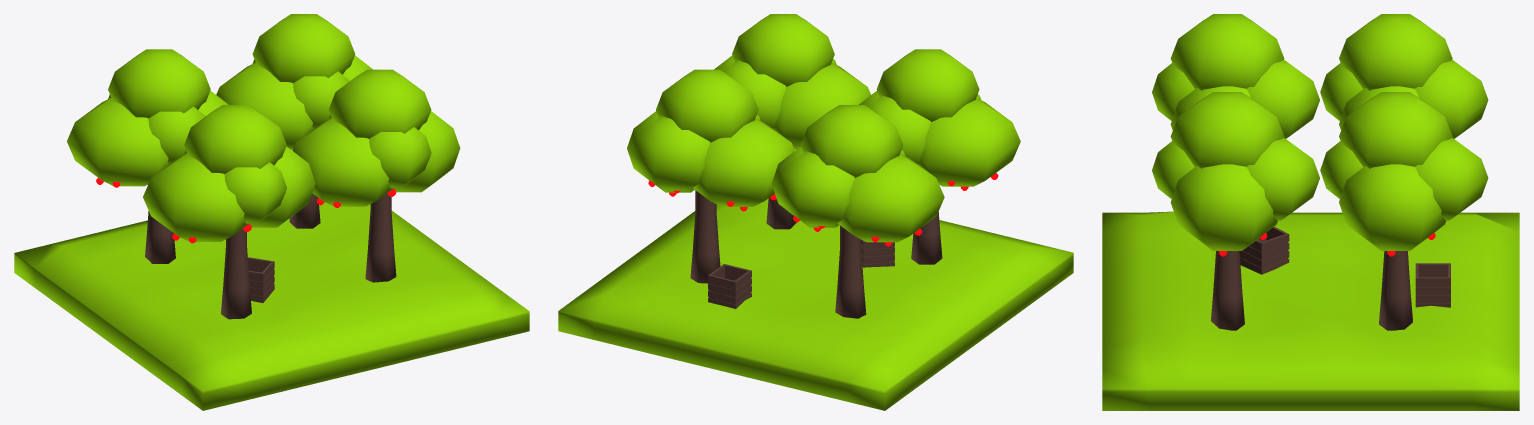
The model's file is TheAppleFarm.fbx.
3 views of the same model, side by side, from view 1: azimuth 30°, elevation 25°; view 2: azimuth 150°, elevation 25°; view 3: azimuth 270°, elevation 25° (orthographic). The views are drawn at different scales.
Visible parts, largest first — view 1: Plane.008, Plane.019, Plane.023; view 2: Plane.008, Plane.019, Plane.022, Plane.023; view 3: Plane.019, Plane.008, Plane.023, Plane.022.
Part boxes in pixels (x1,y1,x2,y2): Plane.008: (67, 14, 460, 319); Plane.019: (14, 202, 529, 410); Plane.023: (247, 257, 274, 302); Plane.008: (627, 14, 1020, 318); Plane.019: (558, 198, 1073, 410); Plane.022: (708, 264, 751, 308); Plane.023: (861, 240, 894, 267); Plane.019: (1102, 211, 1519, 410); Plane.008: (1152, 14, 1488, 330); Plane.023: (1239, 226, 1289, 274); Plane.022: (1415, 263, 1450, 307).
Bounding box in the file's own units: 2457 × 1714 × 2457.
